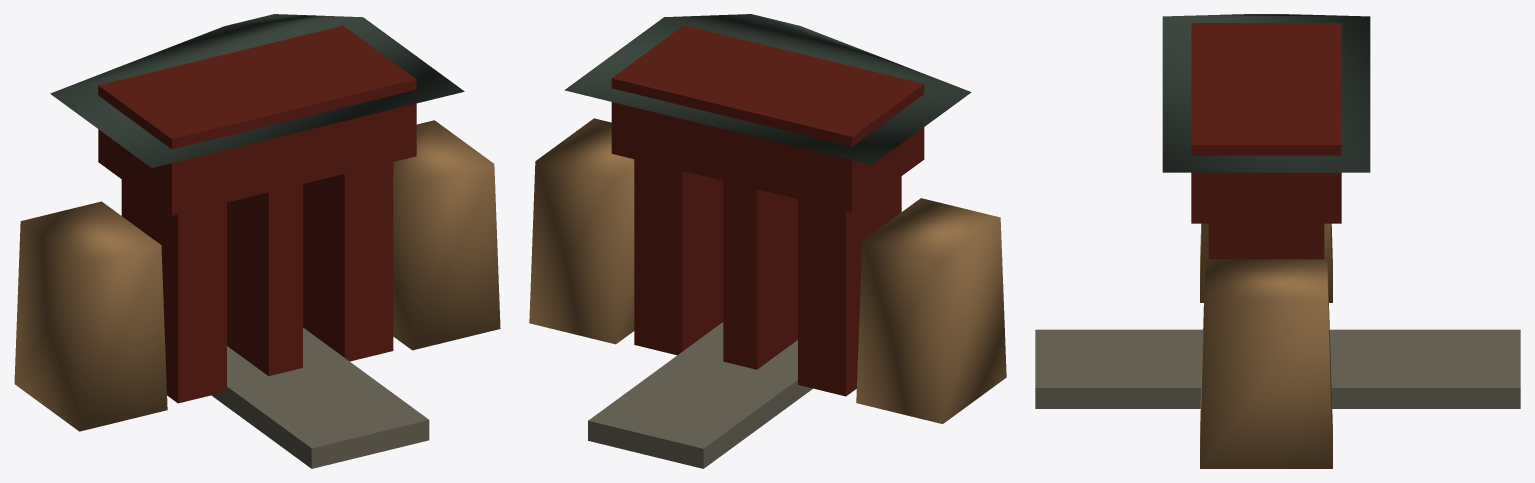
The model's file is R21_HAN_LUOYANG_GATE_ZHONGDONGMEN_A.fbx.
3 renders of one model, left to right at view 1: azimuth 30°, elevation 25°; view 2: azimuth 150°, elevation 25°; view 3: azimuth 270°, elevation 25°, orthographic. The views are drawn at different scales.
Visible parts, largest first — view 1: house, wall_e, wall_w, pier_w, road, roof, pier_e, pier_mid; view 2: house, wall_e, wall_w, road, pier_w, roof, pier_e, pier_mid; view 3: road, house, wall_w, roof, pier_w, wall_e.
Part boxes in pixels (x1,y1,x2,y2): house: (98, 25, 416, 215); wall_e: (14, 201, 167, 431); wall_w: (393, 120, 500, 350); pier_w: (303, 162, 393, 361); road: (211, 327, 429, 468); roof: (50, 14, 464, 167); pier_e: (121, 179, 226, 403); pier_mid: (227, 184, 302, 376); house: (611, 25, 924, 212); wall_e: (856, 198, 1006, 423); wall_w: (529, 118, 634, 344); road: (588, 322, 812, 468); pier_w: (634, 159, 723, 355); roof: (564, 14, 971, 165); pier_e: (798, 176, 901, 396); pier_mid: (723, 181, 797, 369); road: (1035, 329, 1520, 408); house: (1191, 23, 1341, 223); wall_w: (1200, 259, 1332, 468); roof: (1162, 14, 1370, 172); pier_w: (1208, 223, 1324, 259); wall_e: (1200, 223, 1332, 302).
Size of the model in its own units: 86 by 67.5 by 84.
